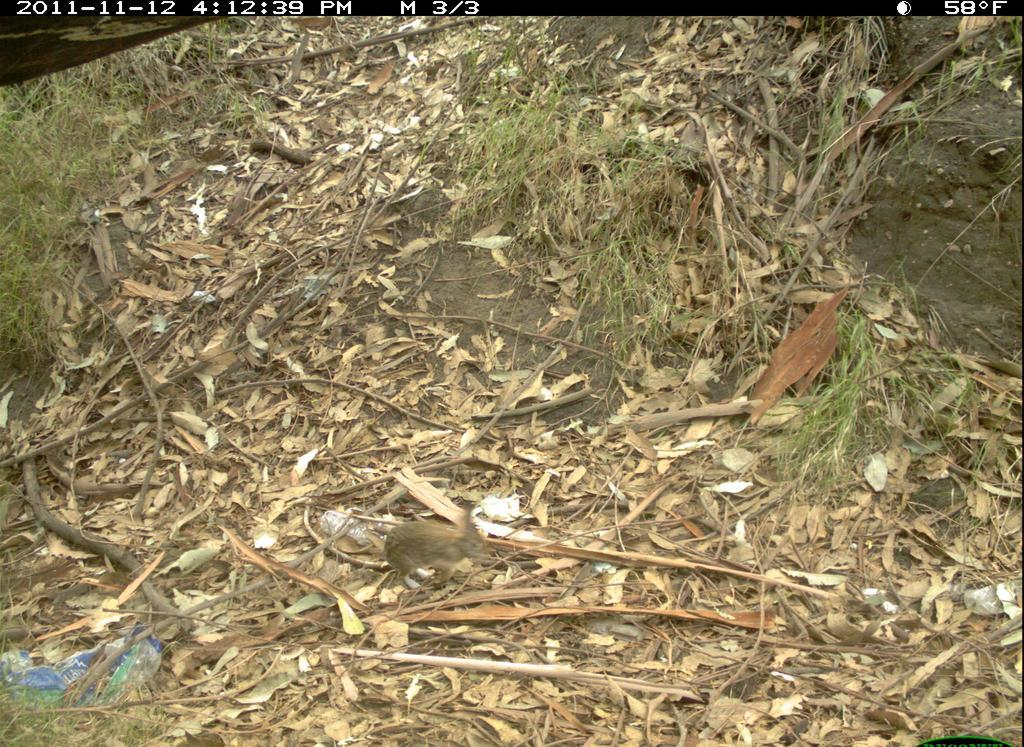rabbit: (373, 492, 504, 593)
